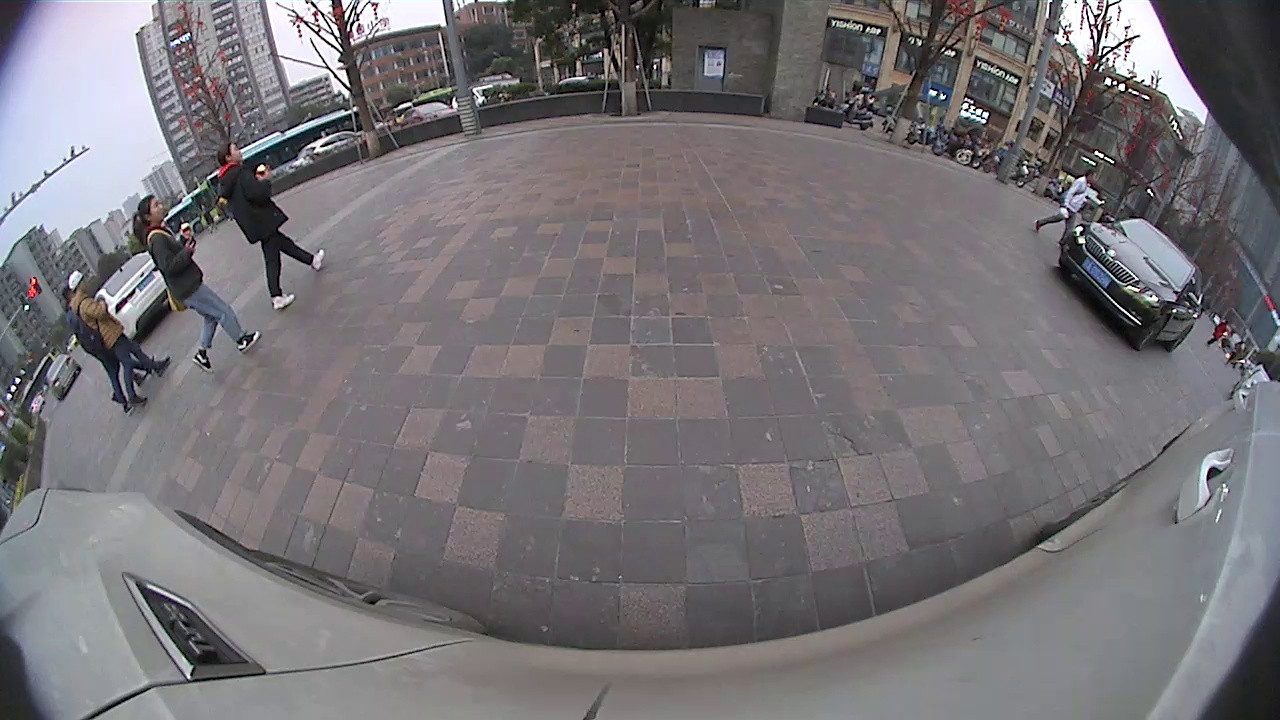bus: (236, 104, 362, 178)
car: (1057, 214, 1206, 354), (96, 253, 177, 344)
front: (1135, 316, 1171, 353)
person: (217, 139, 264, 306), (135, 194, 172, 372), (67, 272, 95, 406), (1072, 168, 1098, 245)
